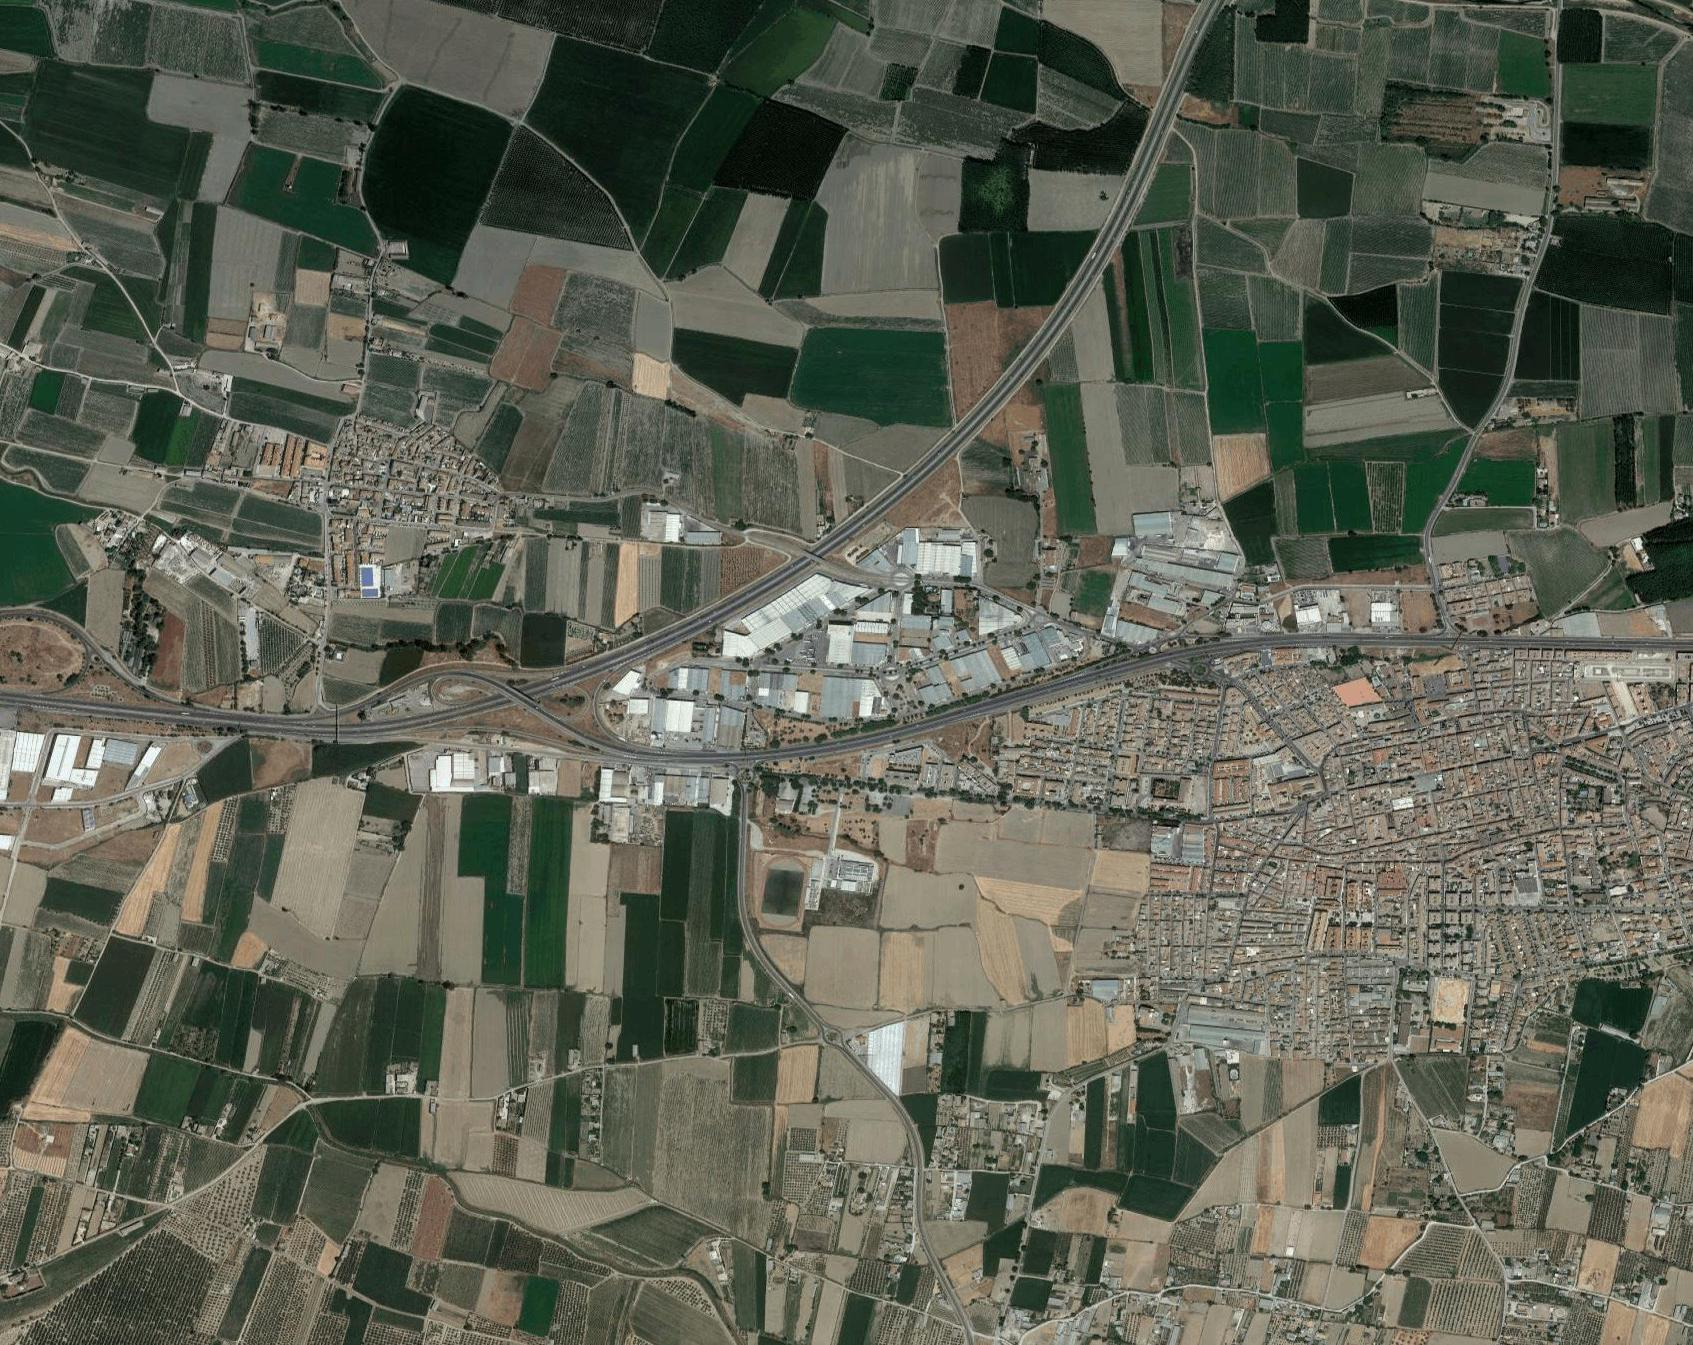industrial: (662, 545, 1021, 747)
motorway: (841, 341, 1043, 526), (614, 514, 847, 670), (338, 642, 616, 743), (1039, 166, 1169, 343), (1, 690, 339, 743), (841, 670, 1042, 754), (1040, 617, 1241, 701), (1119, 1, 1219, 163), (1242, 620, 1464, 664), (598, 732, 840, 769), (1465, 624, 1693, 661)
